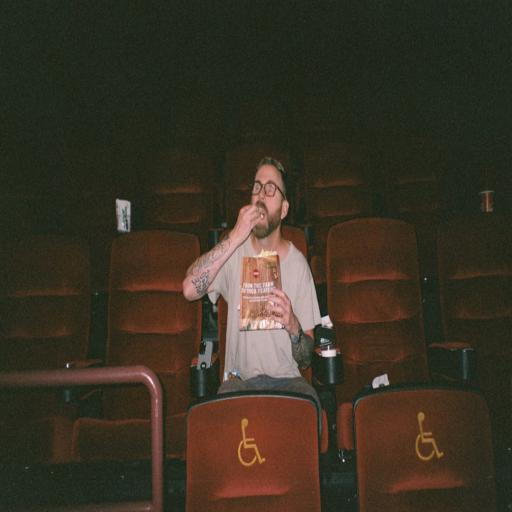face: (252, 165, 288, 238)
